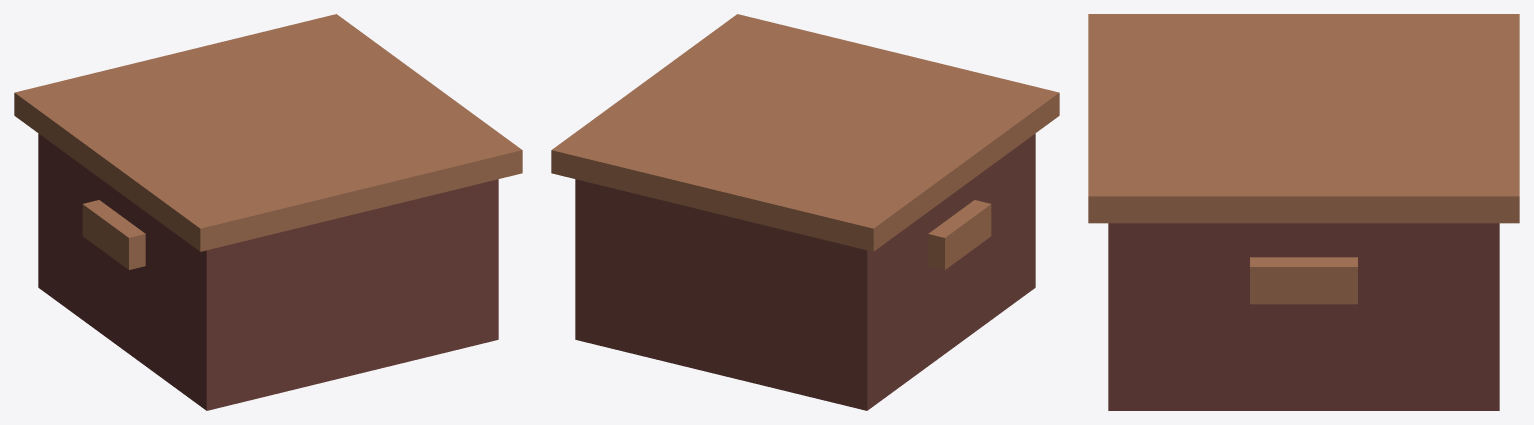
File: Counter01.fbx
3 renders of one model, left to right at view 1: azimuth 30°, elevation 25°; view 2: azimuth 150°, elevation 25°; view 3: azimuth 270°, elevation 25°, orthographic. The views are drawn at different scales.
Parts seen in each view (by area): view 1: Counter01; view 2: Counter01; view 3: Counter01.
Boxes of the visible parts, bbox=[...] form: Counter01: bbox=[14, 14, 522, 410]; Counter01: bbox=[551, 14, 1059, 410]; Counter01: bbox=[1088, 14, 1519, 410].
Bounding box in the file's own units: 2.02 × 2 × 1.14.
